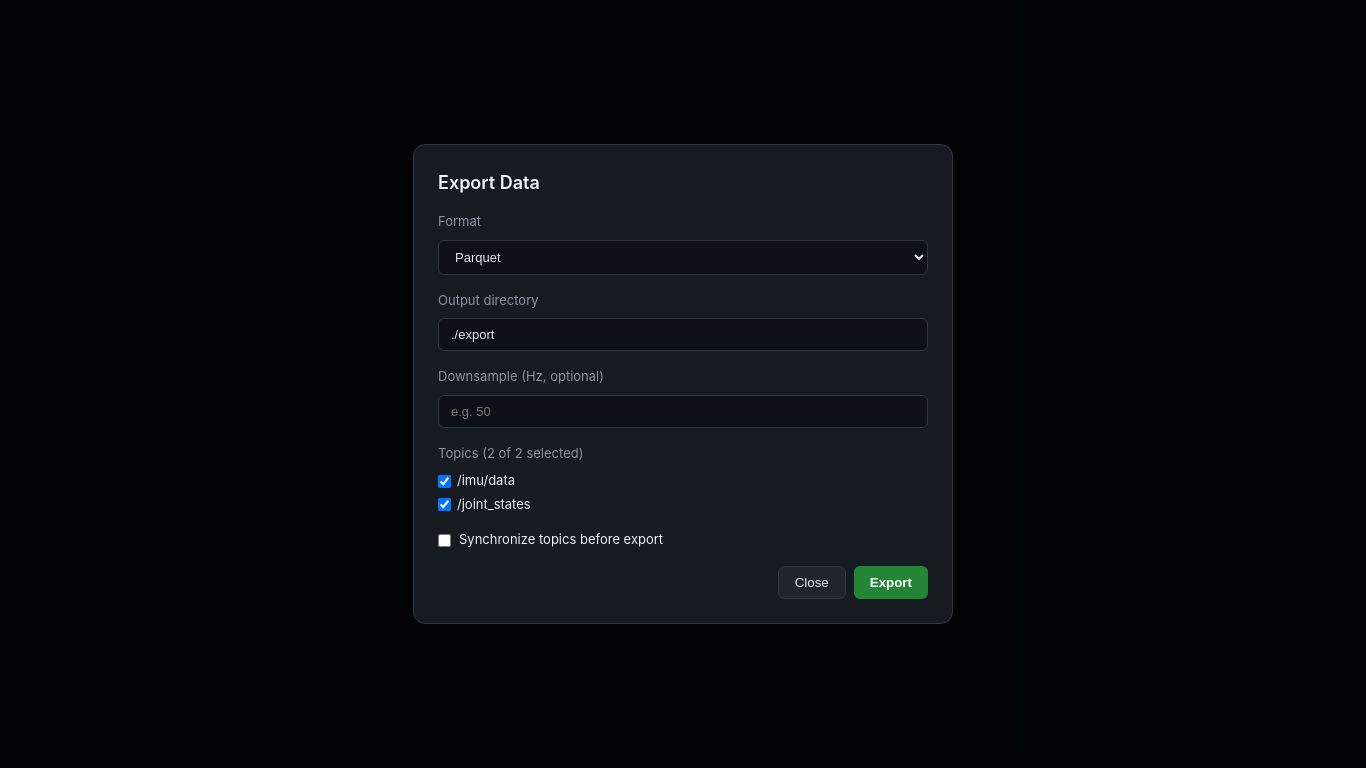
classic export dialog › keeps a failed-columns error in the dialog, one column per line
Click the button "Export" at [891, 582], box [854,566,928,599]
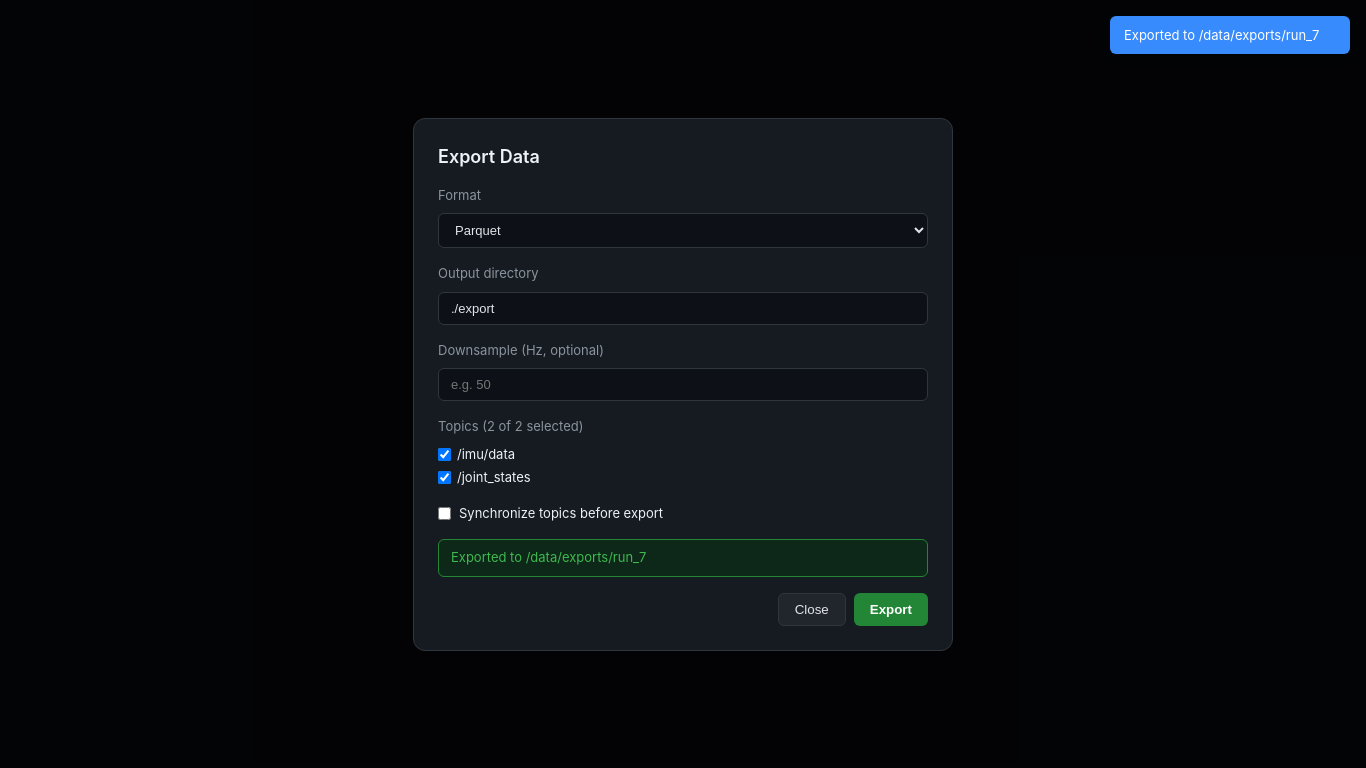
Expected: the text with test id "export-result" reads "Exported to /data/exports/run_7", [438,539,928,576]
Click the button "Export" at [891, 609], box [854,592,928,626]
(page scrolled)
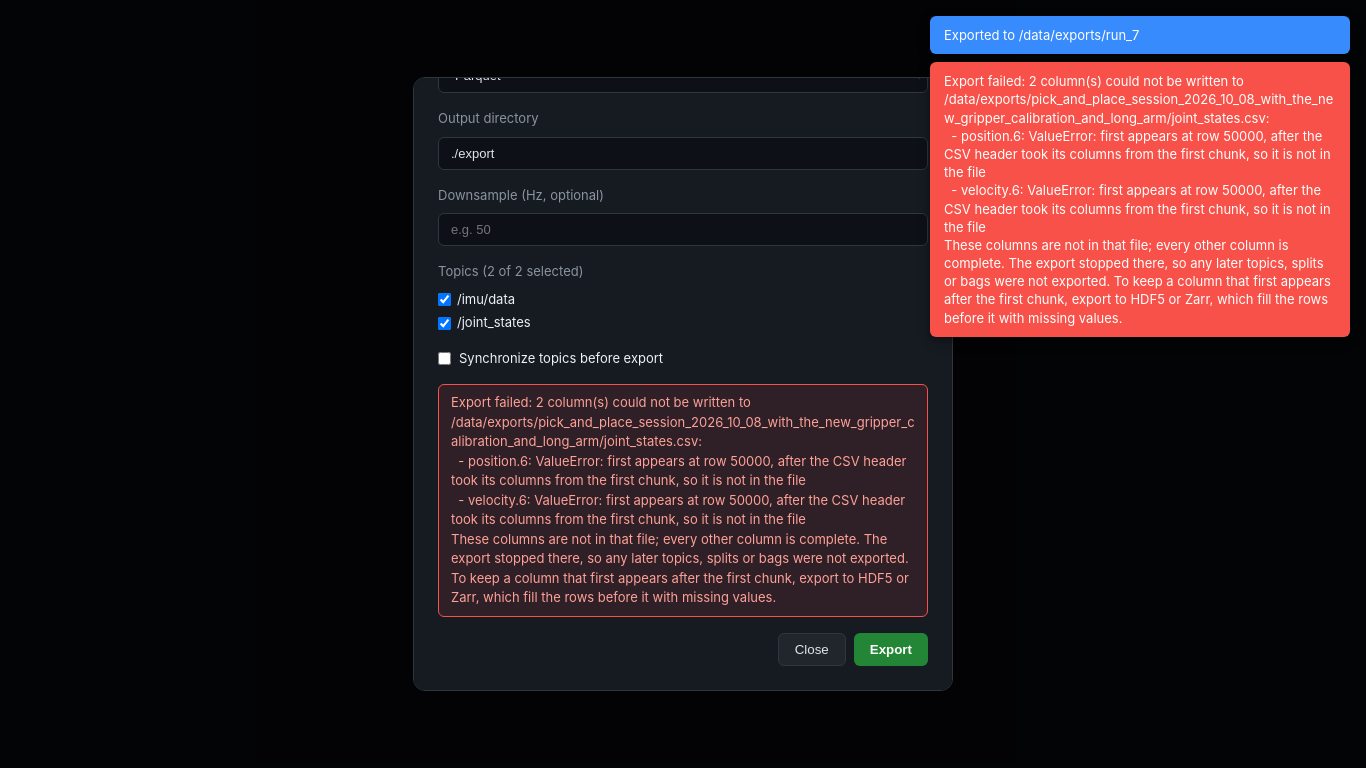
Expected: the text with test id "export-result" is gone
Click the button "Export" at [891, 649], box [854,633,928,666]
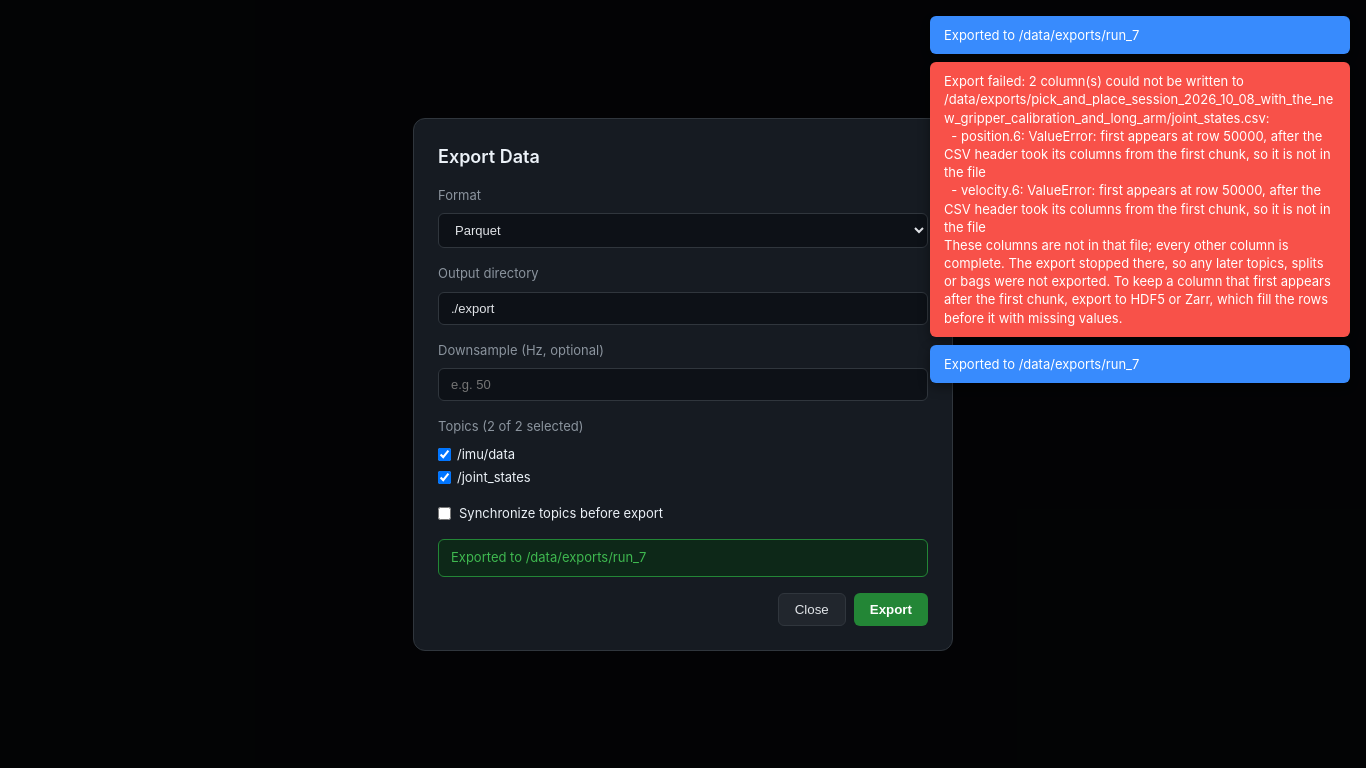
Expected: the text with test id "export-result" reads "Exported to /data/exports/run_7", [438,539,928,576]
Expected: the text with test id "export-failure" is gone
